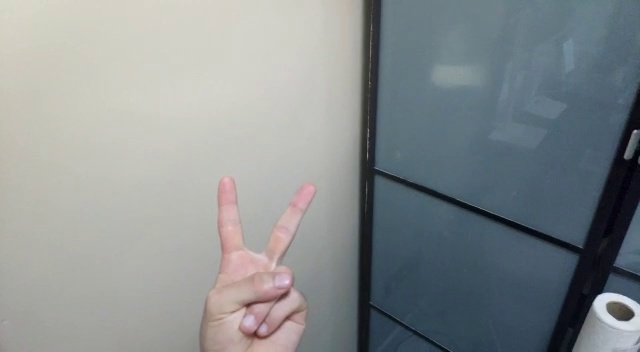Peace: (200, 170, 318, 352)
